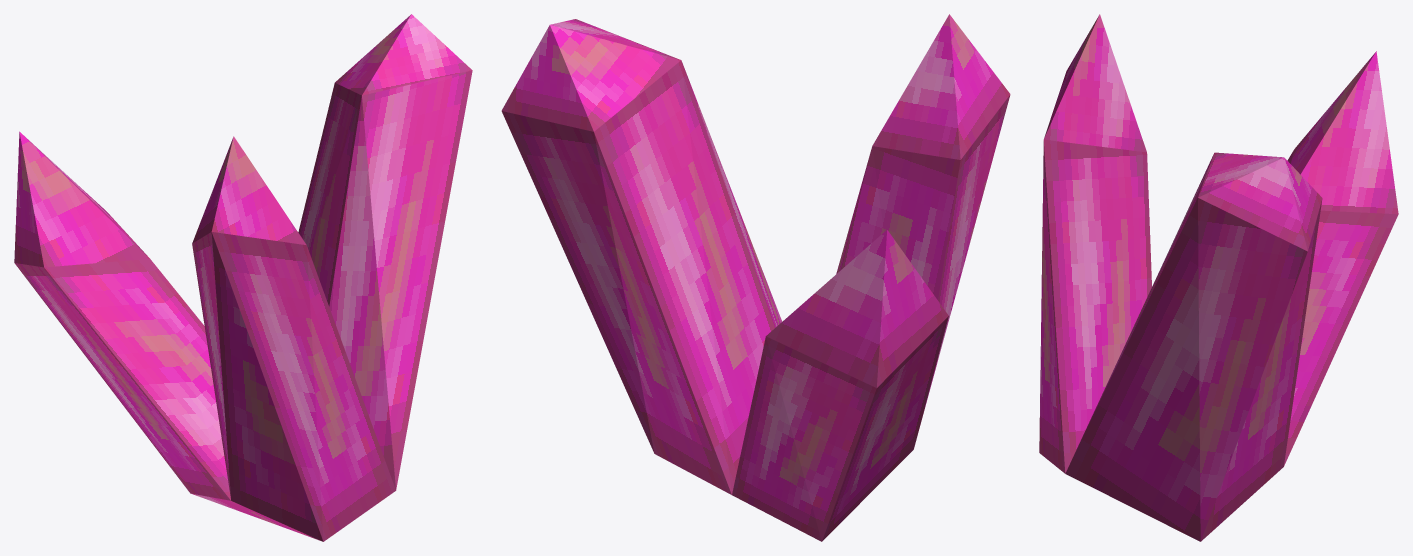
Rendered from crystal.fbx.
The picture shows the model from 3 angles, left to right: view 1: azimuth 30°, elevation 25°; view 2: azimuth 150°, elevation 25°; view 3: azimuth 270°, elevation 25°; orthographic projection. The views are drawn at different scales.
Visible parts, largest first — view 1: Plane; view 2: Plane; view 3: Plane.
Boxes of the visible parts, box(x1,y1,x2,y2) form: Plane: box(14, 14, 472, 541); Plane: box(501, 14, 1010, 541); Plane: box(1039, 14, 1398, 541).
Bounding box in the file's own units: 2.3 × 2.36 × 1.77.
